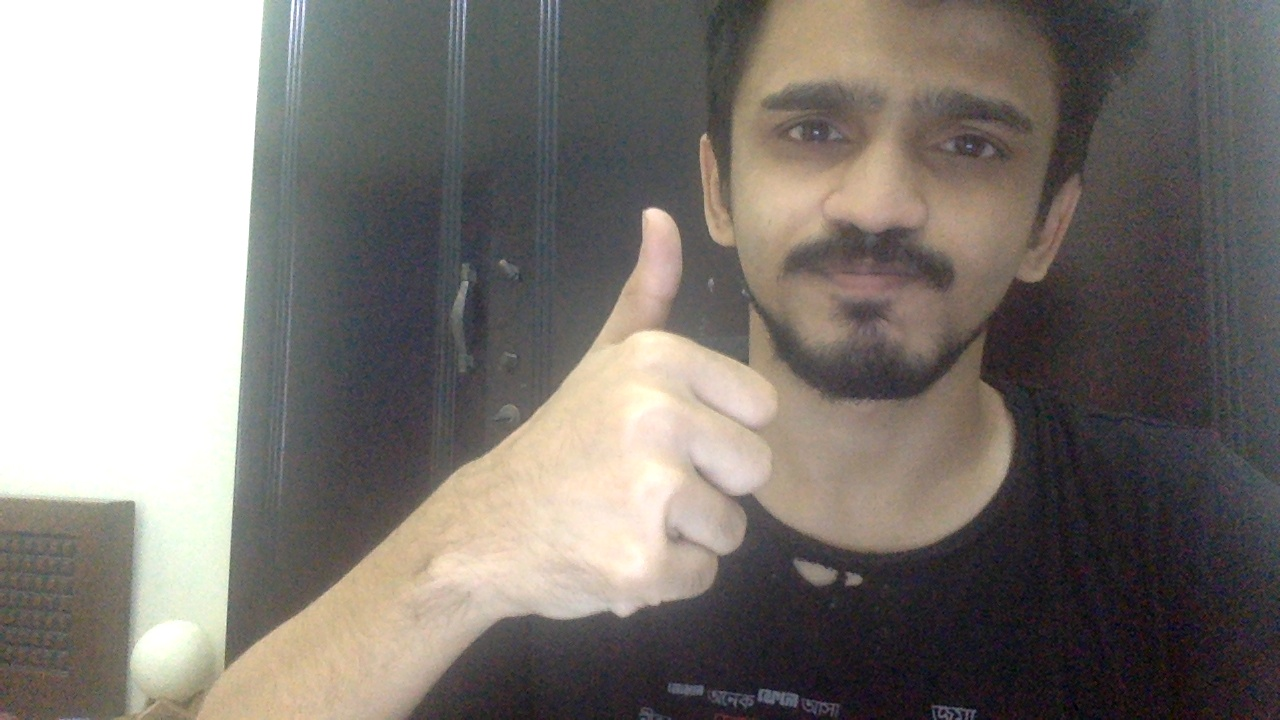good: (486, 201, 766, 625)
